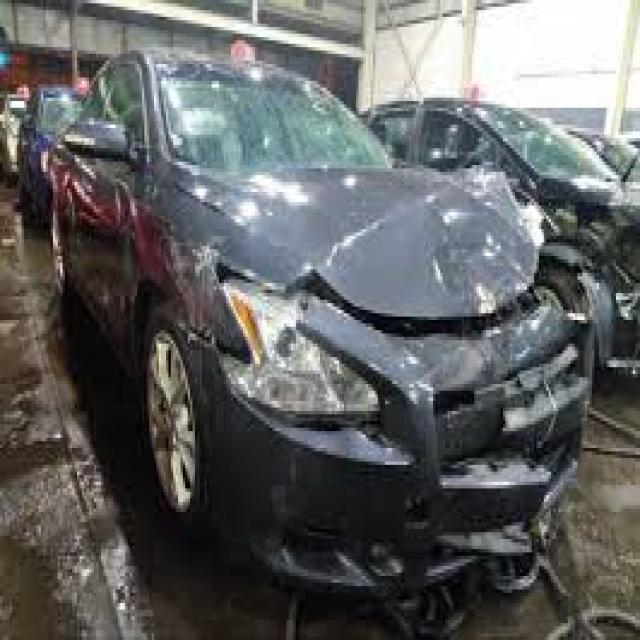moderate: (164, 122, 639, 508)
